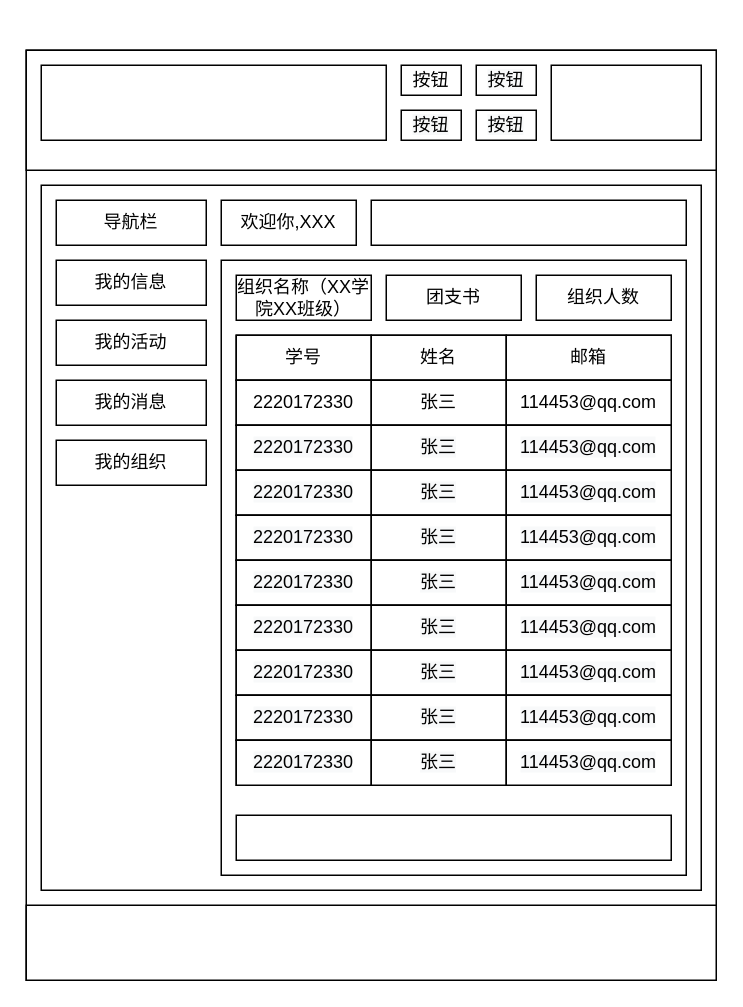
The diagram is 743 pixels wide and 1007 high, and some of its shapes have lost their labels. The centre of each missing label's shape, as x and y in pixels:
"分页页码" belongs at (453,837).
"底部导航栏&联系发邮件" belongs at (370,942).
"当前登录学生信息显示（跳转主页）" belongs at (625,102).
"申请活动" belongs at (528,222).
"网站标题（文字+图片）" belongs at (213,102).
